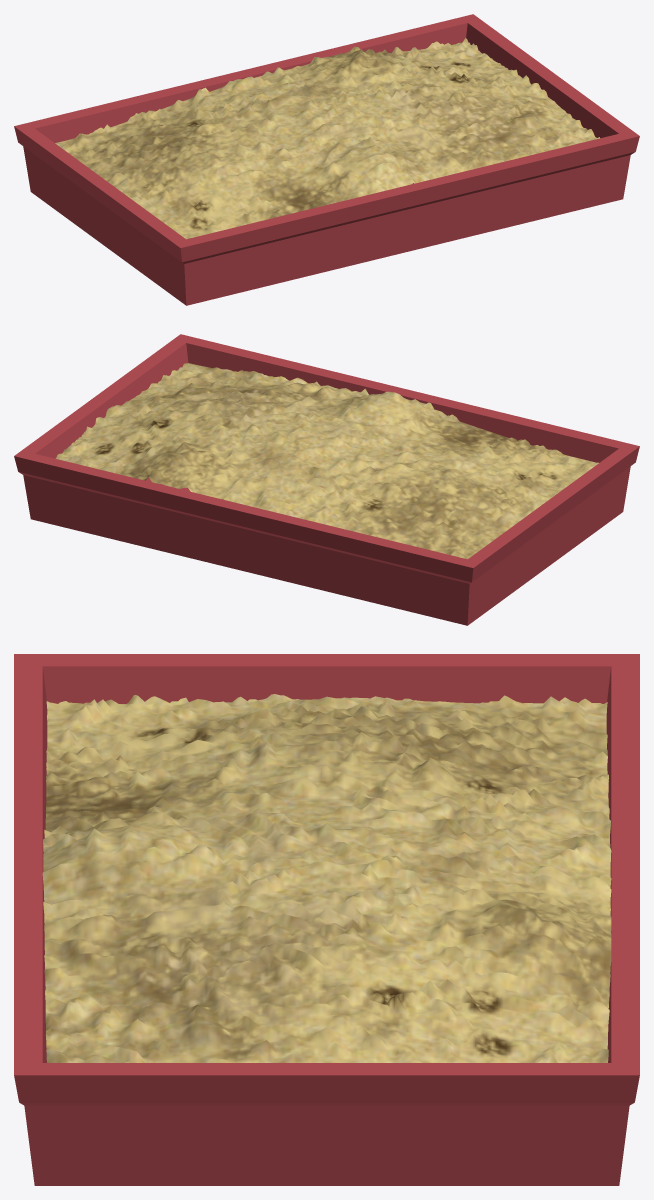
File: Litter Tray.fbx
The picture shows the model from 3 angles, top to bottom: view 1: azimuth 30°, elevation 25°; view 2: azimuth 150°, elevation 25°; view 3: azimuth 270°, elevation 25°; orthographic projection. The views are drawn at different scales.
Visible parts, largest first — view 1: Cube.007; view 2: Cube.007; view 3: Cube.007.
Part boxes in pixels (bbox=[...]): Cube.007: bbox=[14, 14, 639, 305]; Cube.007: bbox=[14, 334, 639, 625]; Cube.007: bbox=[14, 654, 639, 1185].
Bounding box in the file's own units: 60.45 × 10.44 × 37.98.
